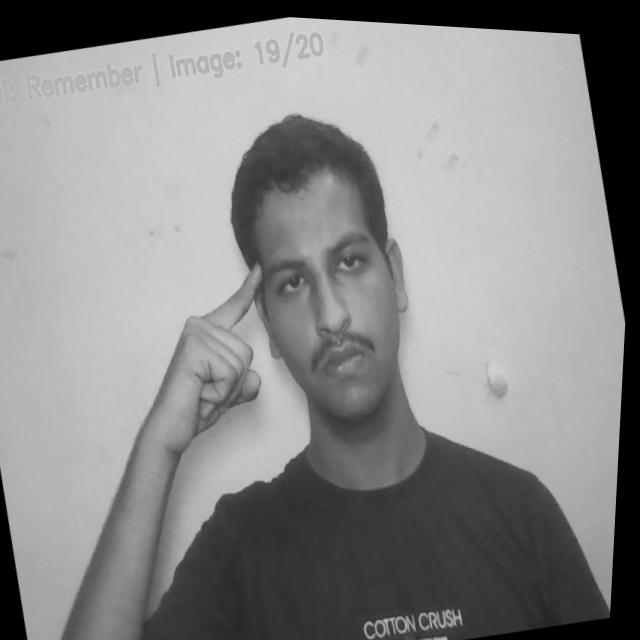Remember: (121, 244, 306, 477)
